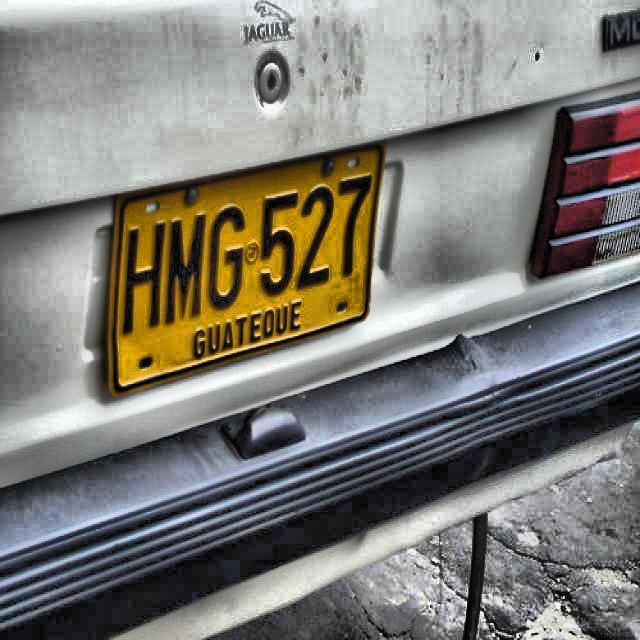plate: (113, 146, 383, 390)
